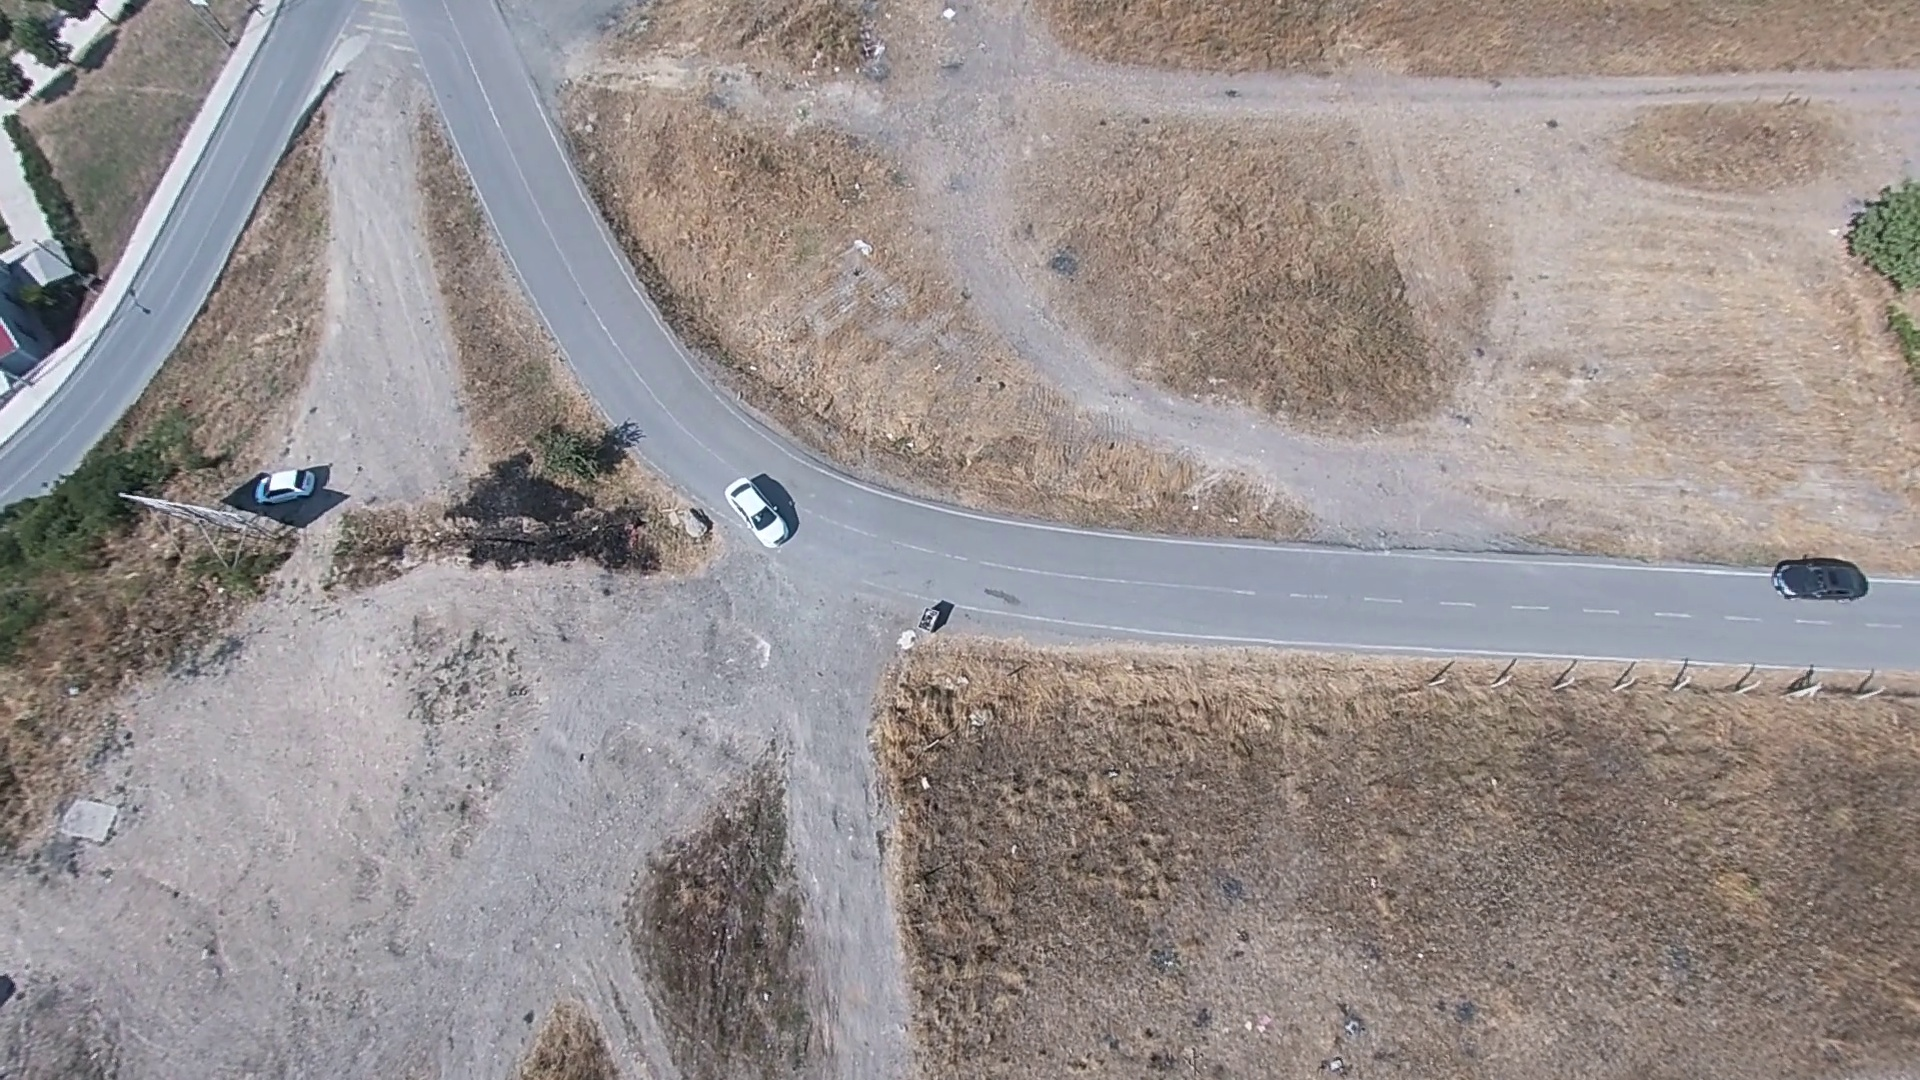araba: (1767, 551, 1880, 603), (724, 471, 796, 546), (249, 465, 323, 504)
